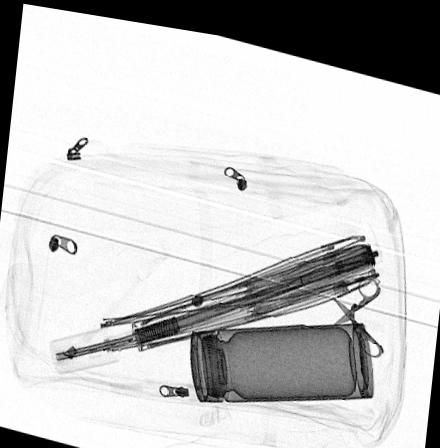Scissors: (332, 261, 384, 346)
